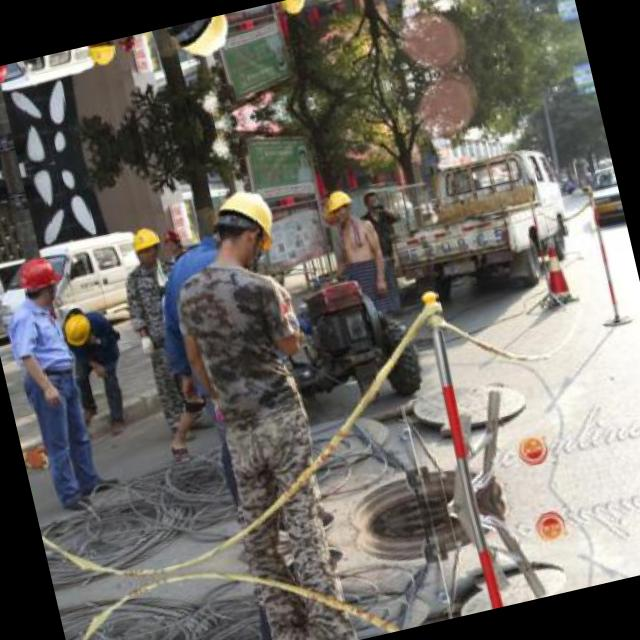helmet: (198, 175, 286, 272), (160, 12, 242, 73), (8, 248, 68, 313), (59, 306, 102, 356), (318, 185, 356, 232), (125, 223, 164, 267), (83, 40, 120, 70), (157, 220, 185, 255), (114, 34, 142, 62), (273, 0, 307, 20), (0, 62, 18, 95)
